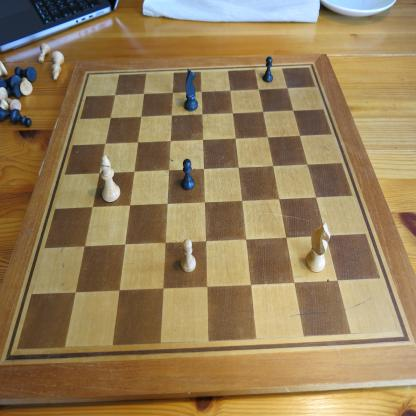black-knight: (184, 68, 198, 112)
black-pawn: (181, 158, 195, 191), (10, 108, 32, 128), (262, 56, 273, 83)
white-bishop: (100, 154, 121, 203), (50, 50, 65, 82)
white-knight: (305, 221, 331, 273)
white-pawn: (180, 238, 196, 274), (36, 42, 50, 64)
